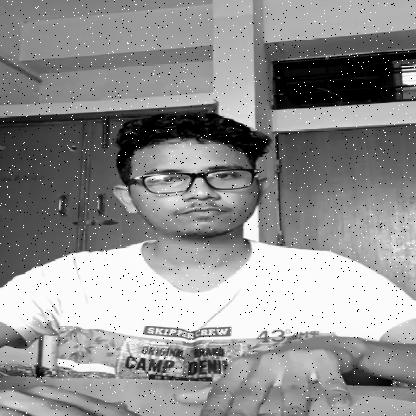Normal: (122, 114, 267, 244)
